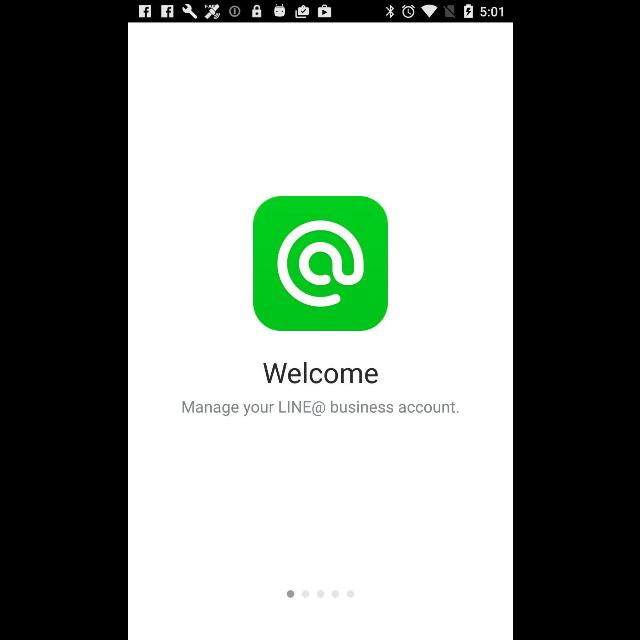image: (252, 196, 388, 332)
pageindicator: (286, 590, 354, 598)
text: (182, 400, 458, 416), (262, 362, 378, 384)
uppertaskbar: (128, 1, 512, 23)
